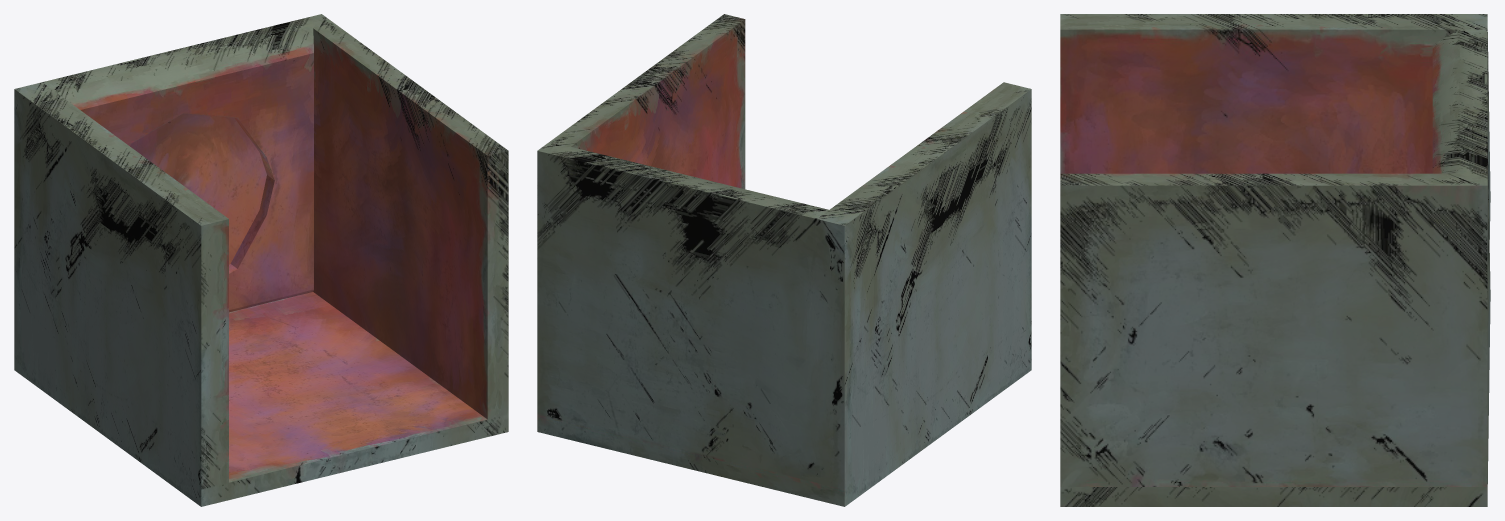
Rendered from Horno Pared.fbx.
3 views of the same model, side by side, from view 1: azimuth 30°, elevation 25°; view 2: azimuth 150°, elevation 25°; view 3: azimuth 270°, elevation 25° (orthographic). The views are drawn at different scales.
Parts seen in each view (by area): view 1: Horno_Low; view 2: Horno_Low; view 3: Horno_Low.
Boxes of the visible parts, box(x1,y1,x2,y2) form: Horno_Low: box(14, 14, 508, 506); Horno_Low: box(537, 14, 1031, 506); Horno_Low: box(1060, 14, 1490, 506).
Size of the model in its own units: 1.34 by 1.17 by 1.42.
1 material, 1 textured.
